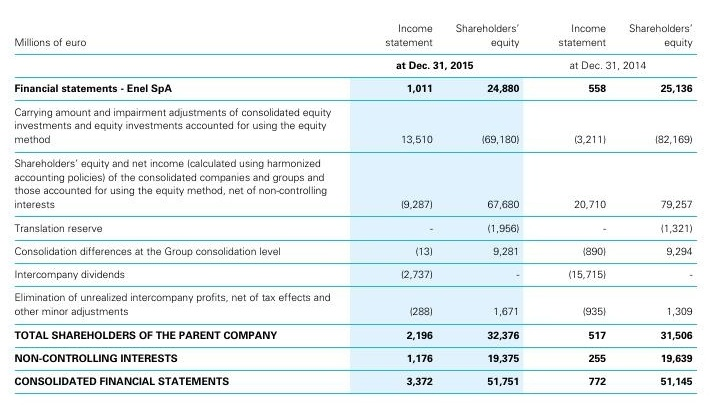table: (0, 0, 721, 409)
